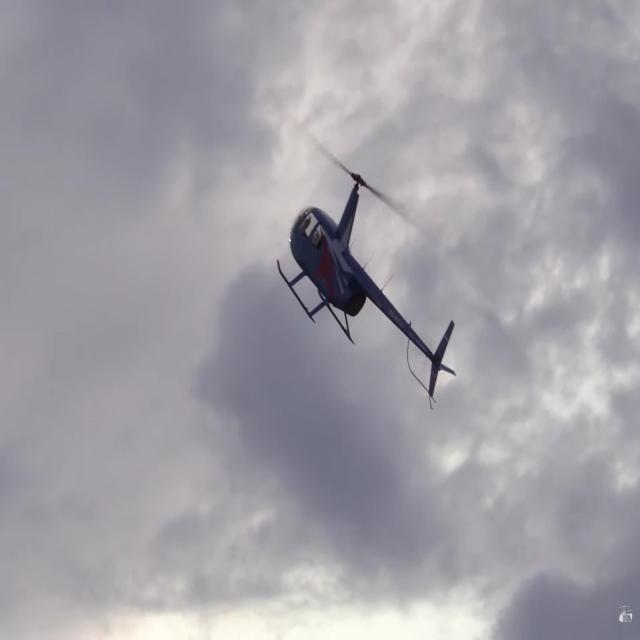CIV_HELO: (276, 170, 458, 402)
